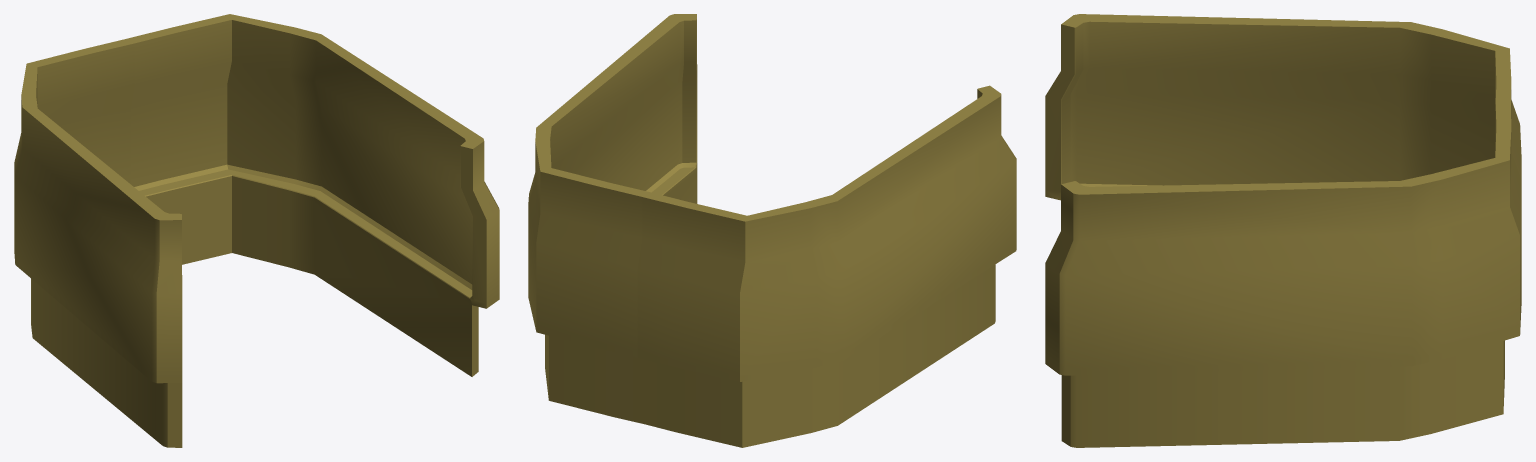
Rendered from cocpit.obj.
3 renders of one model, left to right at view 1: azimuth 30°, elevation 25°; view 2: azimuth 150°, elevation 25°; view 3: azimuth 270°, elevation 25°, orthographic. The views are drawn at different scales.
Parts seen in each view (by area): view 1: cocpit_export; view 2: cocpit_export; view 3: cocpit_export.
Part boxes in pixels (bbox=[...]): cocpit_export: bbox=[14, 14, 499, 447]; cocpit_export: bbox=[528, 14, 1016, 447]; cocpit_export: bbox=[1045, 14, 1521, 447].
Bounding box in the file's own units: 5.54 × 3.48 × 5.85.
